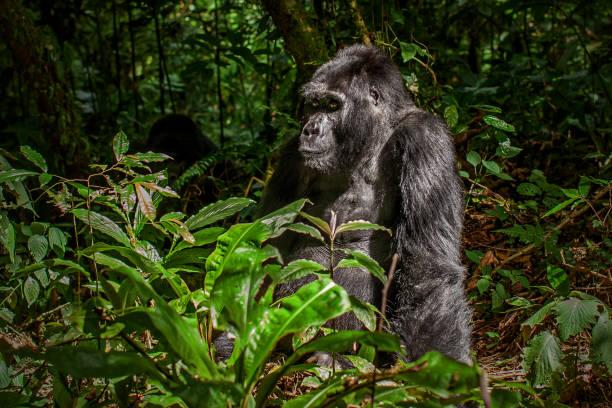goriile_montagne: (279, 33, 487, 354)
